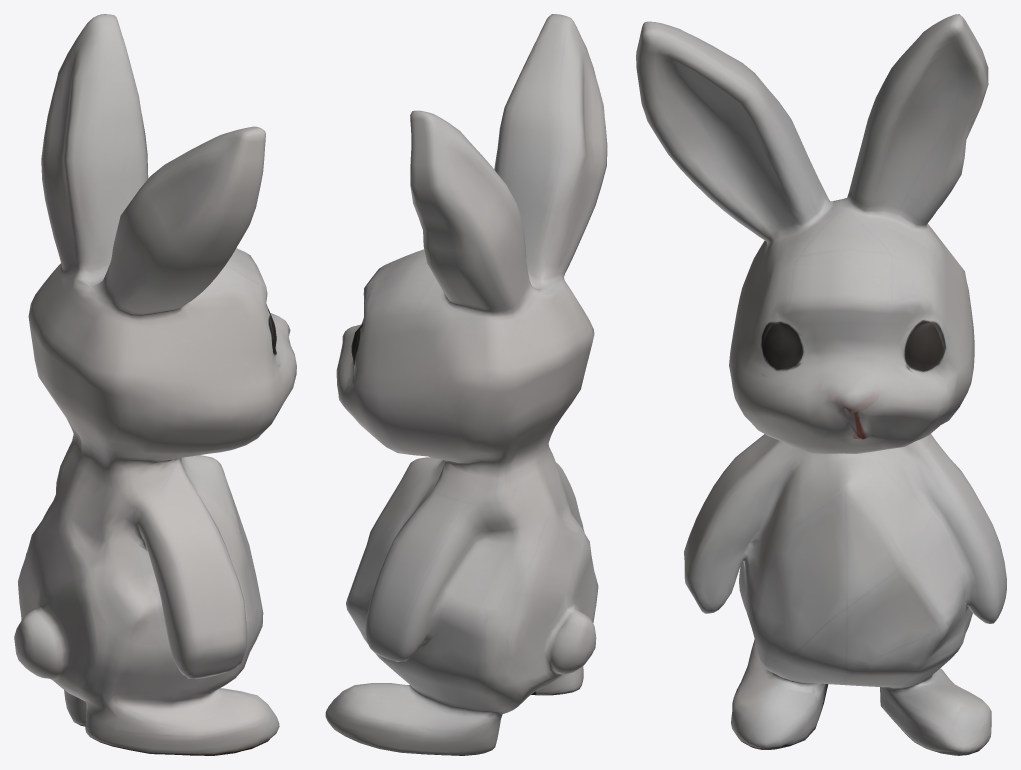
File: tripo_convert_098ecf7f-8e10-4614-9eda-ff38ab792911.fbx
The picture shows the model from 3 angles, left to right: view 1: azimuth 30°, elevation 25°; view 2: azimuth 150°, elevation 25°; view 3: azimuth 270°, elevation 25°; orthographic projection. The views are drawn at different scales.
Parts seen in each view (by area): view 1: tripo_node_098ecf7f; view 2: tripo_node_098ecf7f; view 3: tripo_node_098ecf7f.
Part boxes in pixels (<box>): tripo_node_098ecf7f: <box>14,14,296,755</box>; tripo_node_098ecf7f: <box>325,14,607,755</box>; tripo_node_098ecf7f: <box>636,14,1006,755</box>.
Size of the model in its own units: 40.64 by 99.83 by 47.35.
Materials: 1 (1 with a texture image).
